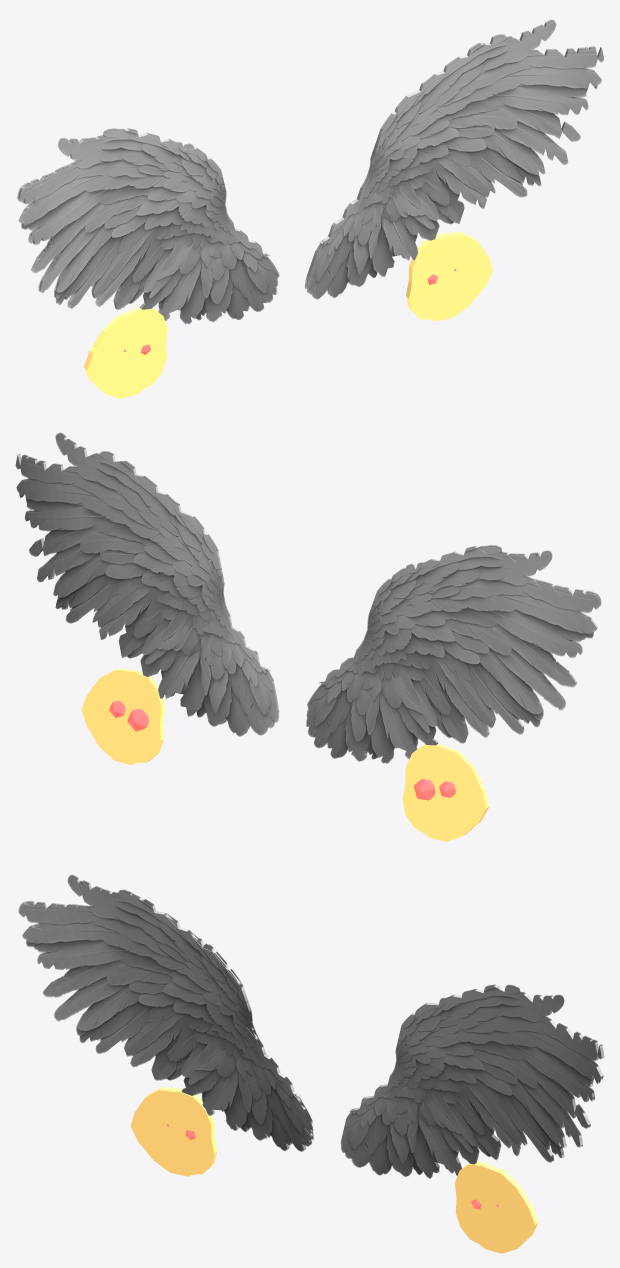
File: angel_wings_ornament.glb
The picture shows the model from 3 angles, top to bottom: view 1: azimuth 30°, elevation 25°; view 2: azimuth 150°, elevation 25°; view 3: azimuth 330°, elevation 25°; orthographic projection.
Parts seen in each view (by area): view 1: RW_01 - Default_0, LW_01 - Default_0; view 2: LW_01 - Default_0, RW_01 - Default_0; view 3: LW_01 - Default_0, RW_01 - Default_0.
Boxes of the visible parts, left/top/right/bottom form: RW_01 - Default_0: left=305, top=20, right=604, bottom=321; LW_01 - Default_0: left=17, top=128, right=279, bottom=398; LW_01 - Default_0: left=306, top=545, right=601, bottom=841; RW_01 - Default_0: left=15, top=432, right=279, bottom=764; LW_01 - Default_0: left=18, top=875, right=313, bottom=1176; RW_01 - Default_0: left=341, top=984, right=604, bottom=1253.
Bounding box in the file's own units: 2.25 × 1.09 × 0.2204.
3 materials, 1 textured.
